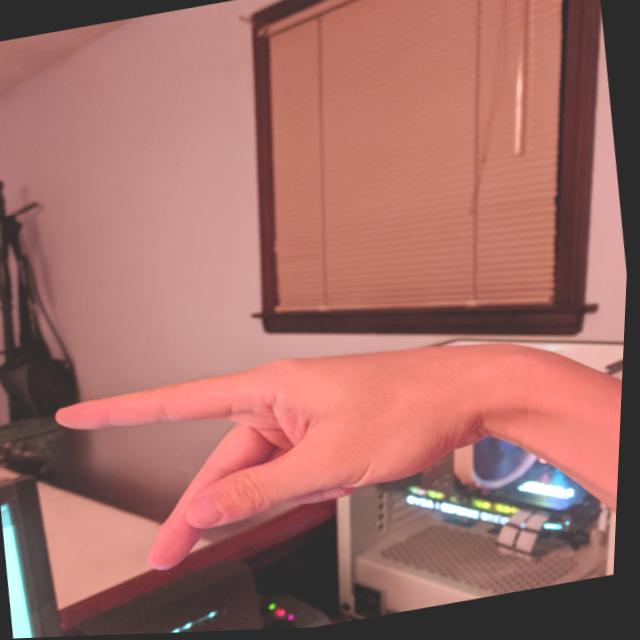P: (45, 320, 511, 594)
